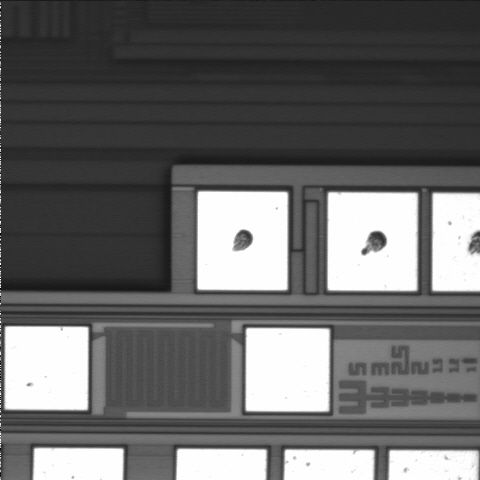pad: (198, 191, 288, 290), (328, 192, 417, 291), (5, 327, 88, 410), (246, 328, 329, 411)
